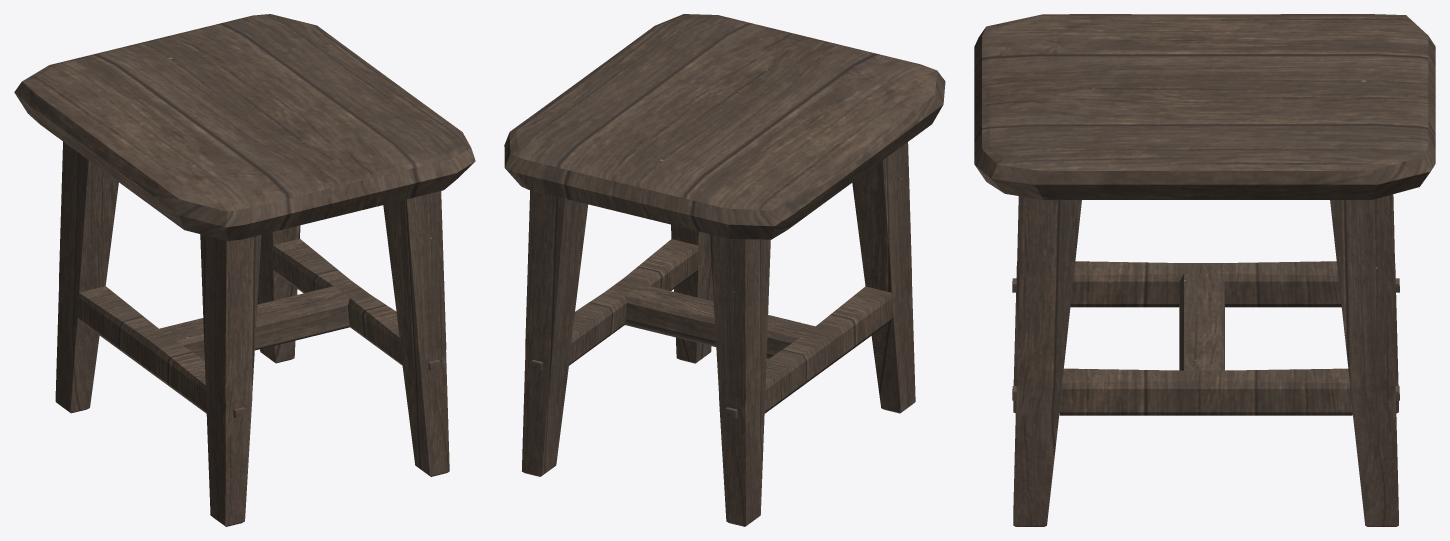
The model's file is Stool.fbx.
3 renders of one model, left to right at view 1: azimuth 30°, elevation 25°; view 2: azimuth 150°, elevation 25°; view 3: azimuth 270°, elevation 25°, orthographic. The views are drawn at different scales.
Visible parts, largest first — view 1: Stool; view 2: Stool; view 3: Stool.
Boxes of the visible parts, <box> form: Stool: <box>14,14,475,526</box>; Stool: <box>504,14,945,526</box>; Stool: <box>974,14,1435,526</box>.
Bounding box in the file's own units: 82.57 × 91.11 × 101.
1 material, 1 textured.
